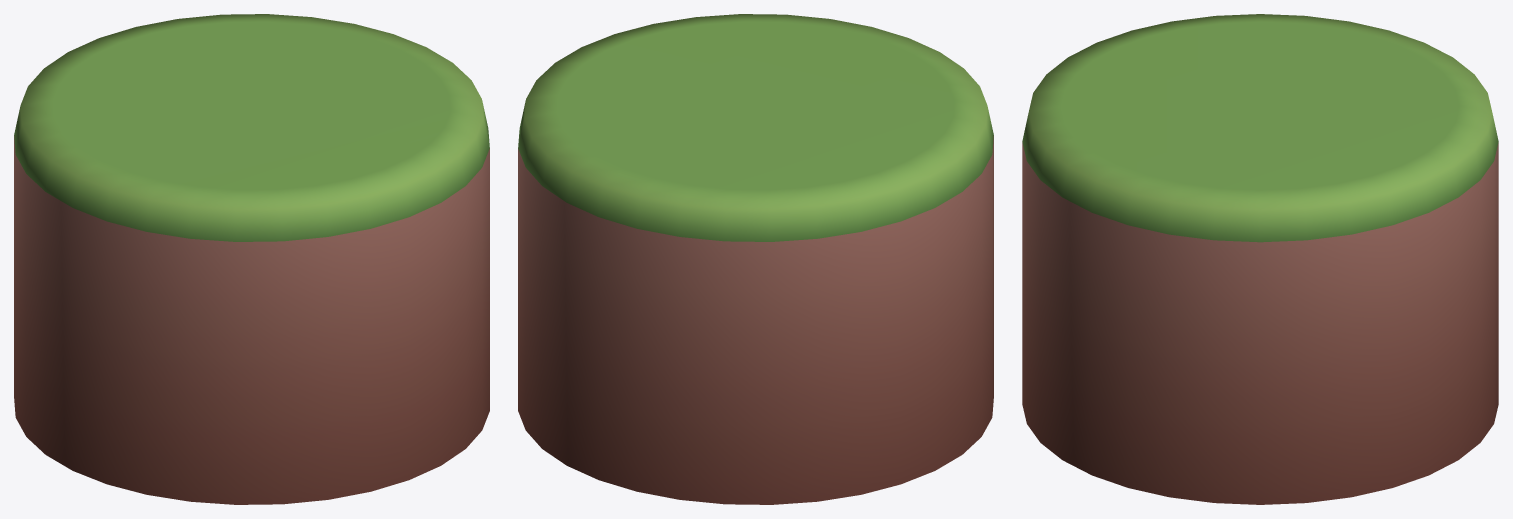
The model's file is Forest_VCillinderSmall2.fbx.
The picture shows the model from 3 angles, left to right: view 1: azimuth 30°, elevation 25°; view 2: azimuth 150°, elevation 25°; view 3: azimuth 270°, elevation 25°; orthographic projection.
Visible parts, largest first — view 1: Circle.020; view 2: Circle.020; view 3: Circle.020.
Part boxes in pixels (bbox=[...]): Circle.020: bbox=[14, 14, 489, 504]; Circle.020: bbox=[518, 14, 993, 504]; Circle.020: bbox=[1022, 14, 1498, 504].
Size of the model in its own units: 149 by 103 by 149.
